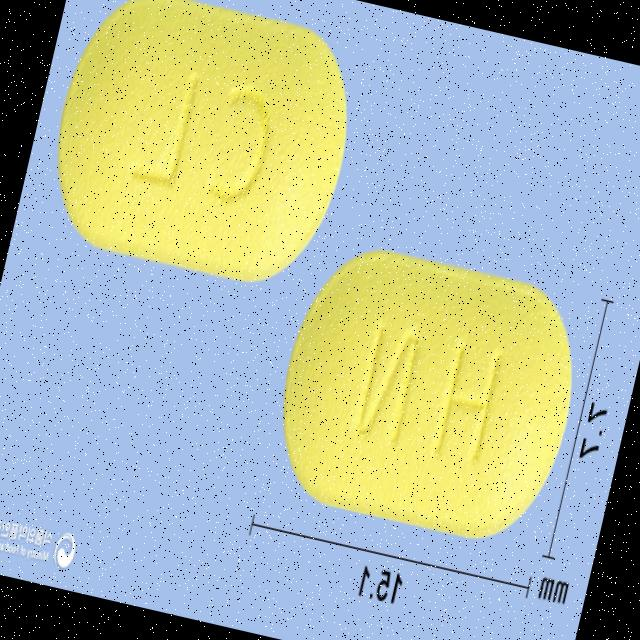Cyclin: (258, 228, 600, 552), (31, 0, 371, 302)
